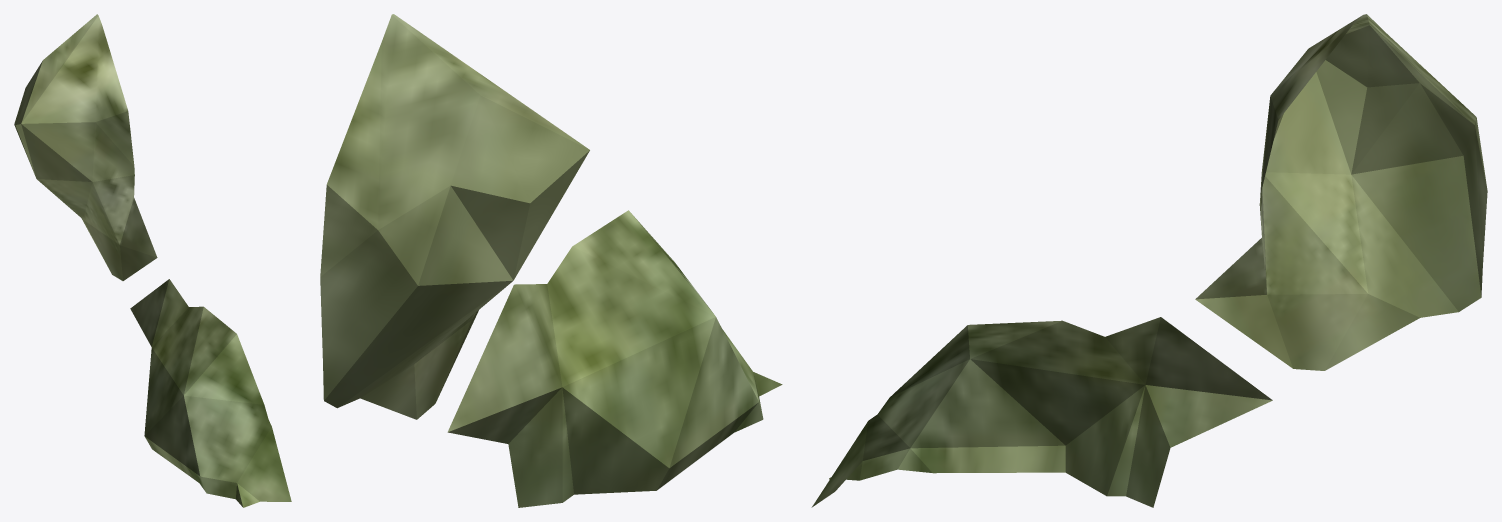
3 renders of one model, left to right at view 1: azimuth 30°, elevation 25°; view 2: azimuth 150°, elevation 25°; view 3: azimuth 270°, elevation 25°, orthographic. The views are drawn at different scales.
Bounding box in the file's own units: 0.2393 × 0.8183 × 1.02.
Materials: 1 (1 with a texture image).
